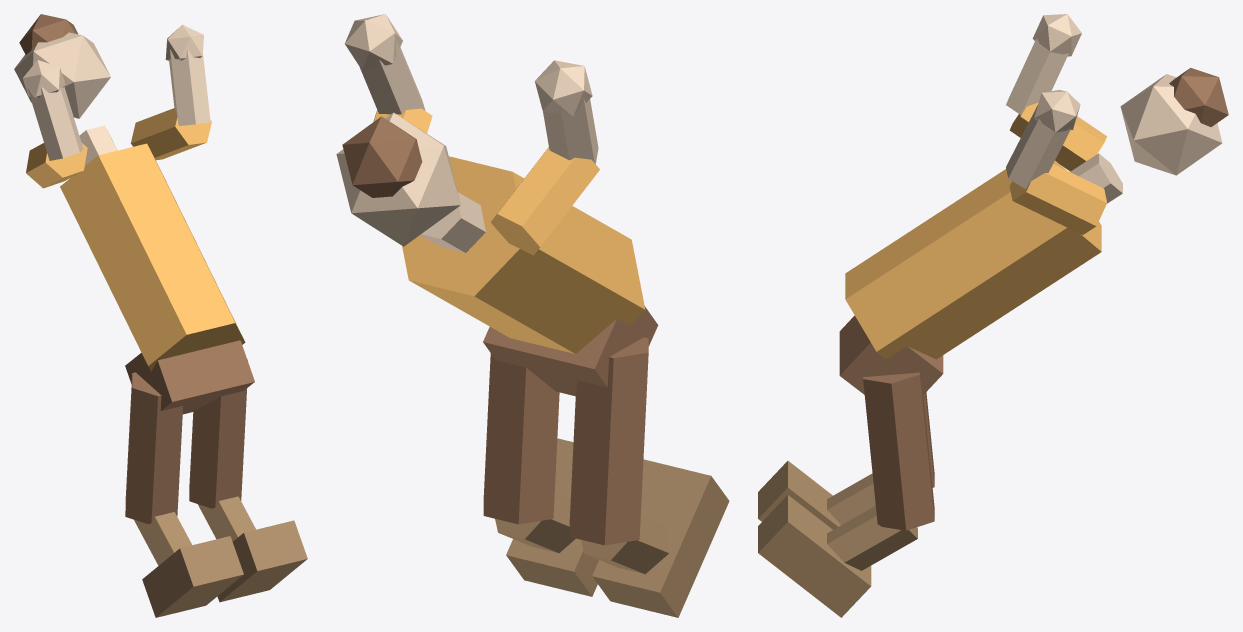
File: pose_dodge_roll_12.glb
3 renders of one model, left to right at view 1: azimuth 30°, elevation 25°; view 2: azimuth 150°, elevation 25°; view 3: azimuth 270°, elevation 25°, orthographic. The views are drawn at different scales.
Visible parts, largest first — view 1: pose; view 2: pose; view 3: pose.
Boxes of the visible parts, x1=… form: pose: x1=14, y1=14, x2=307, y2=617; pose: x1=336, y1=14, x2=729, y2=617; pose: x1=758, y1=14, x2=1228, y2=617.
Bounding box in the file's own units: 0.4876 × 1.29 × 1.03.
